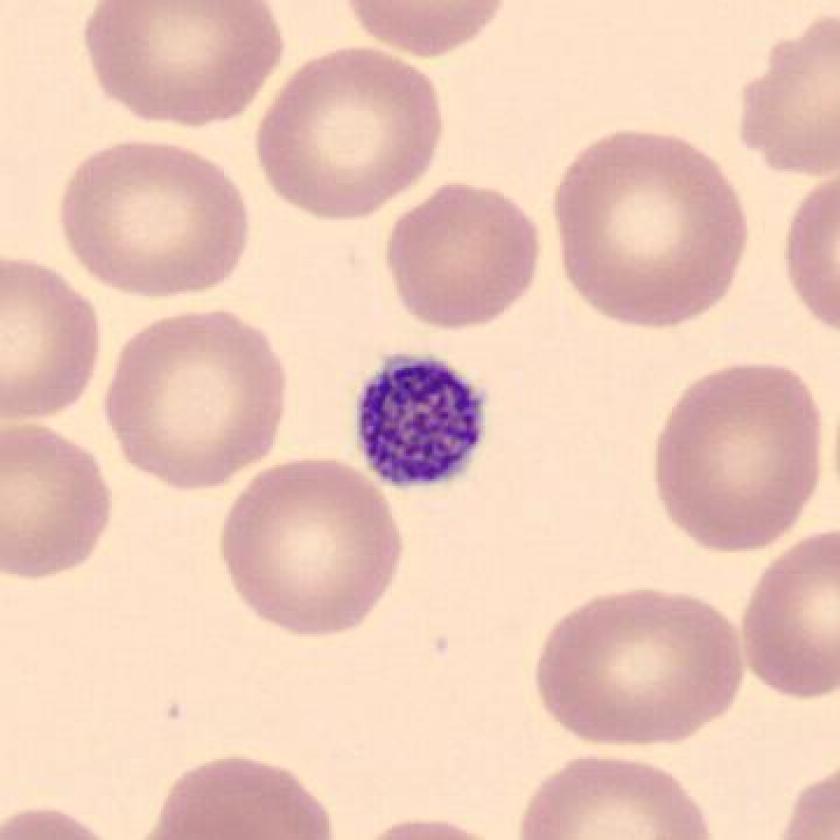platelets: (337, 341, 503, 506)
